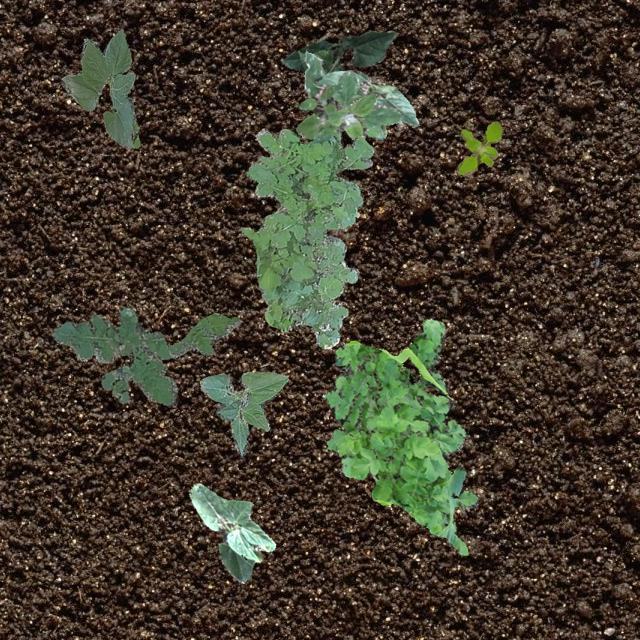crop: (60, 28, 138, 148), (188, 482, 274, 582), (200, 370, 288, 454), (312, 70, 418, 126), (282, 29, 396, 72)
weed: (320, 317, 478, 554), (240, 128, 372, 348), (52, 306, 240, 404), (296, 50, 386, 138), (298, 70, 401, 140), (456, 120, 502, 174)
